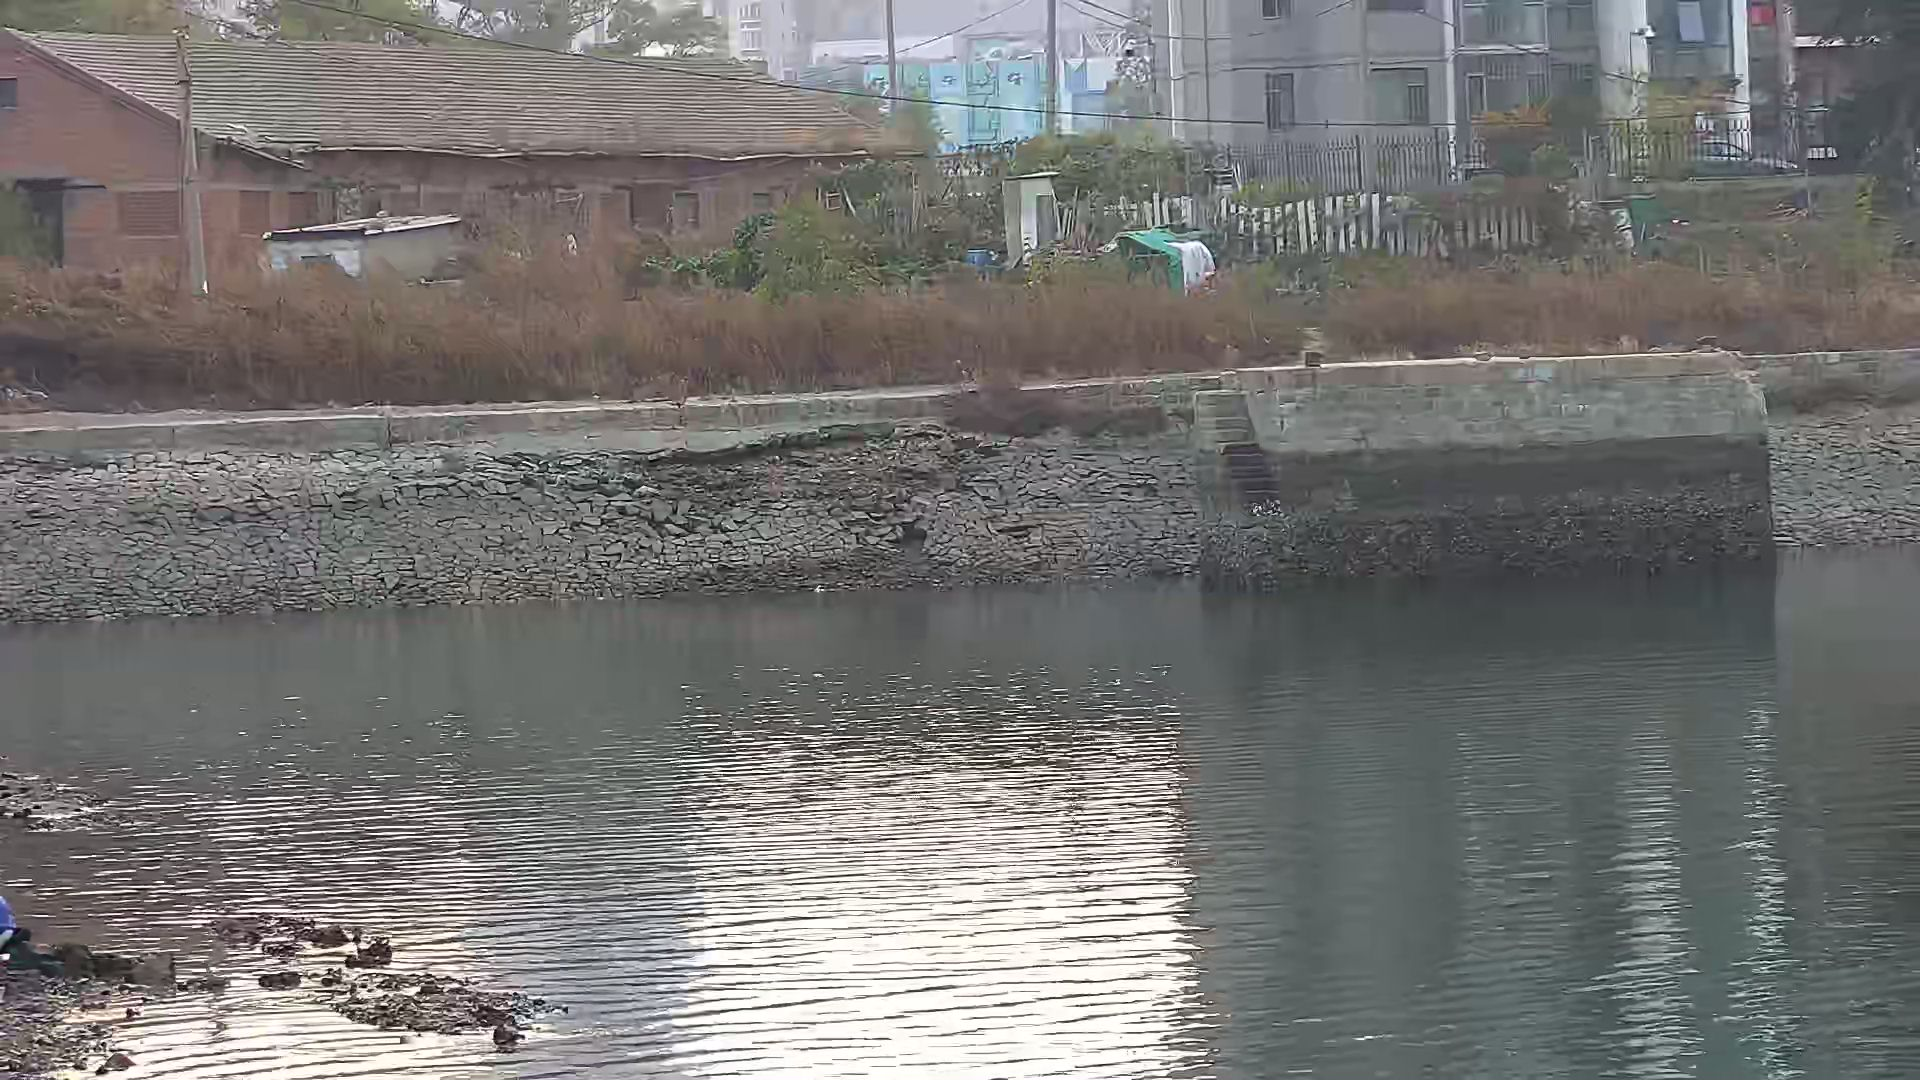rubbish: (214, 913, 563, 1044)
